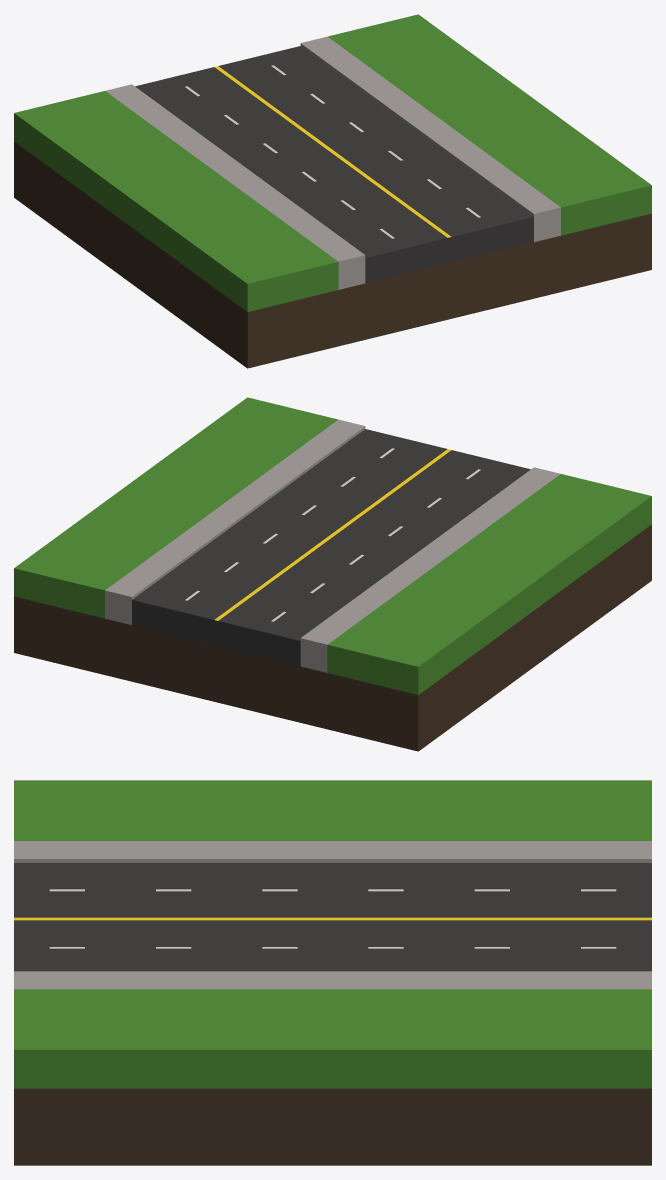
File: tiles_tile-mainroad-straight.fbx
3 views of the same model, one above another, from view 1: azimuth 30°, elevation 25°; view 2: azimuth 150°, elevation 25°; view 3: azimuth 270°, elevation 25° (orthographic). The views are drawn at different scales.
Parts seen in each view (by area): view 1: tiles_tile_mainroad_straight; view 2: tiles_tile_mainroad_straight; view 3: tiles_tile_mainroad_straight.
Part boxes in pixels (x1,y1,x2,y2): tiles_tile_mainroad_straight: (14, 14, 651, 368); tiles_tile_mainroad_straight: (14, 397, 651, 751); tiles_tile_mainroad_straight: (14, 780, 651, 1165).
Bounding box in the file's own units: 200 × 40 × 200.
